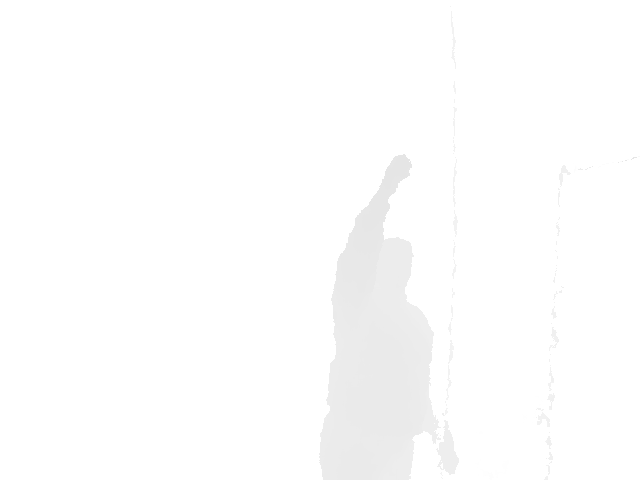hand: (377, 153, 413, 202)
head: (376, 238, 415, 290)
person: (317, 153, 461, 479)
